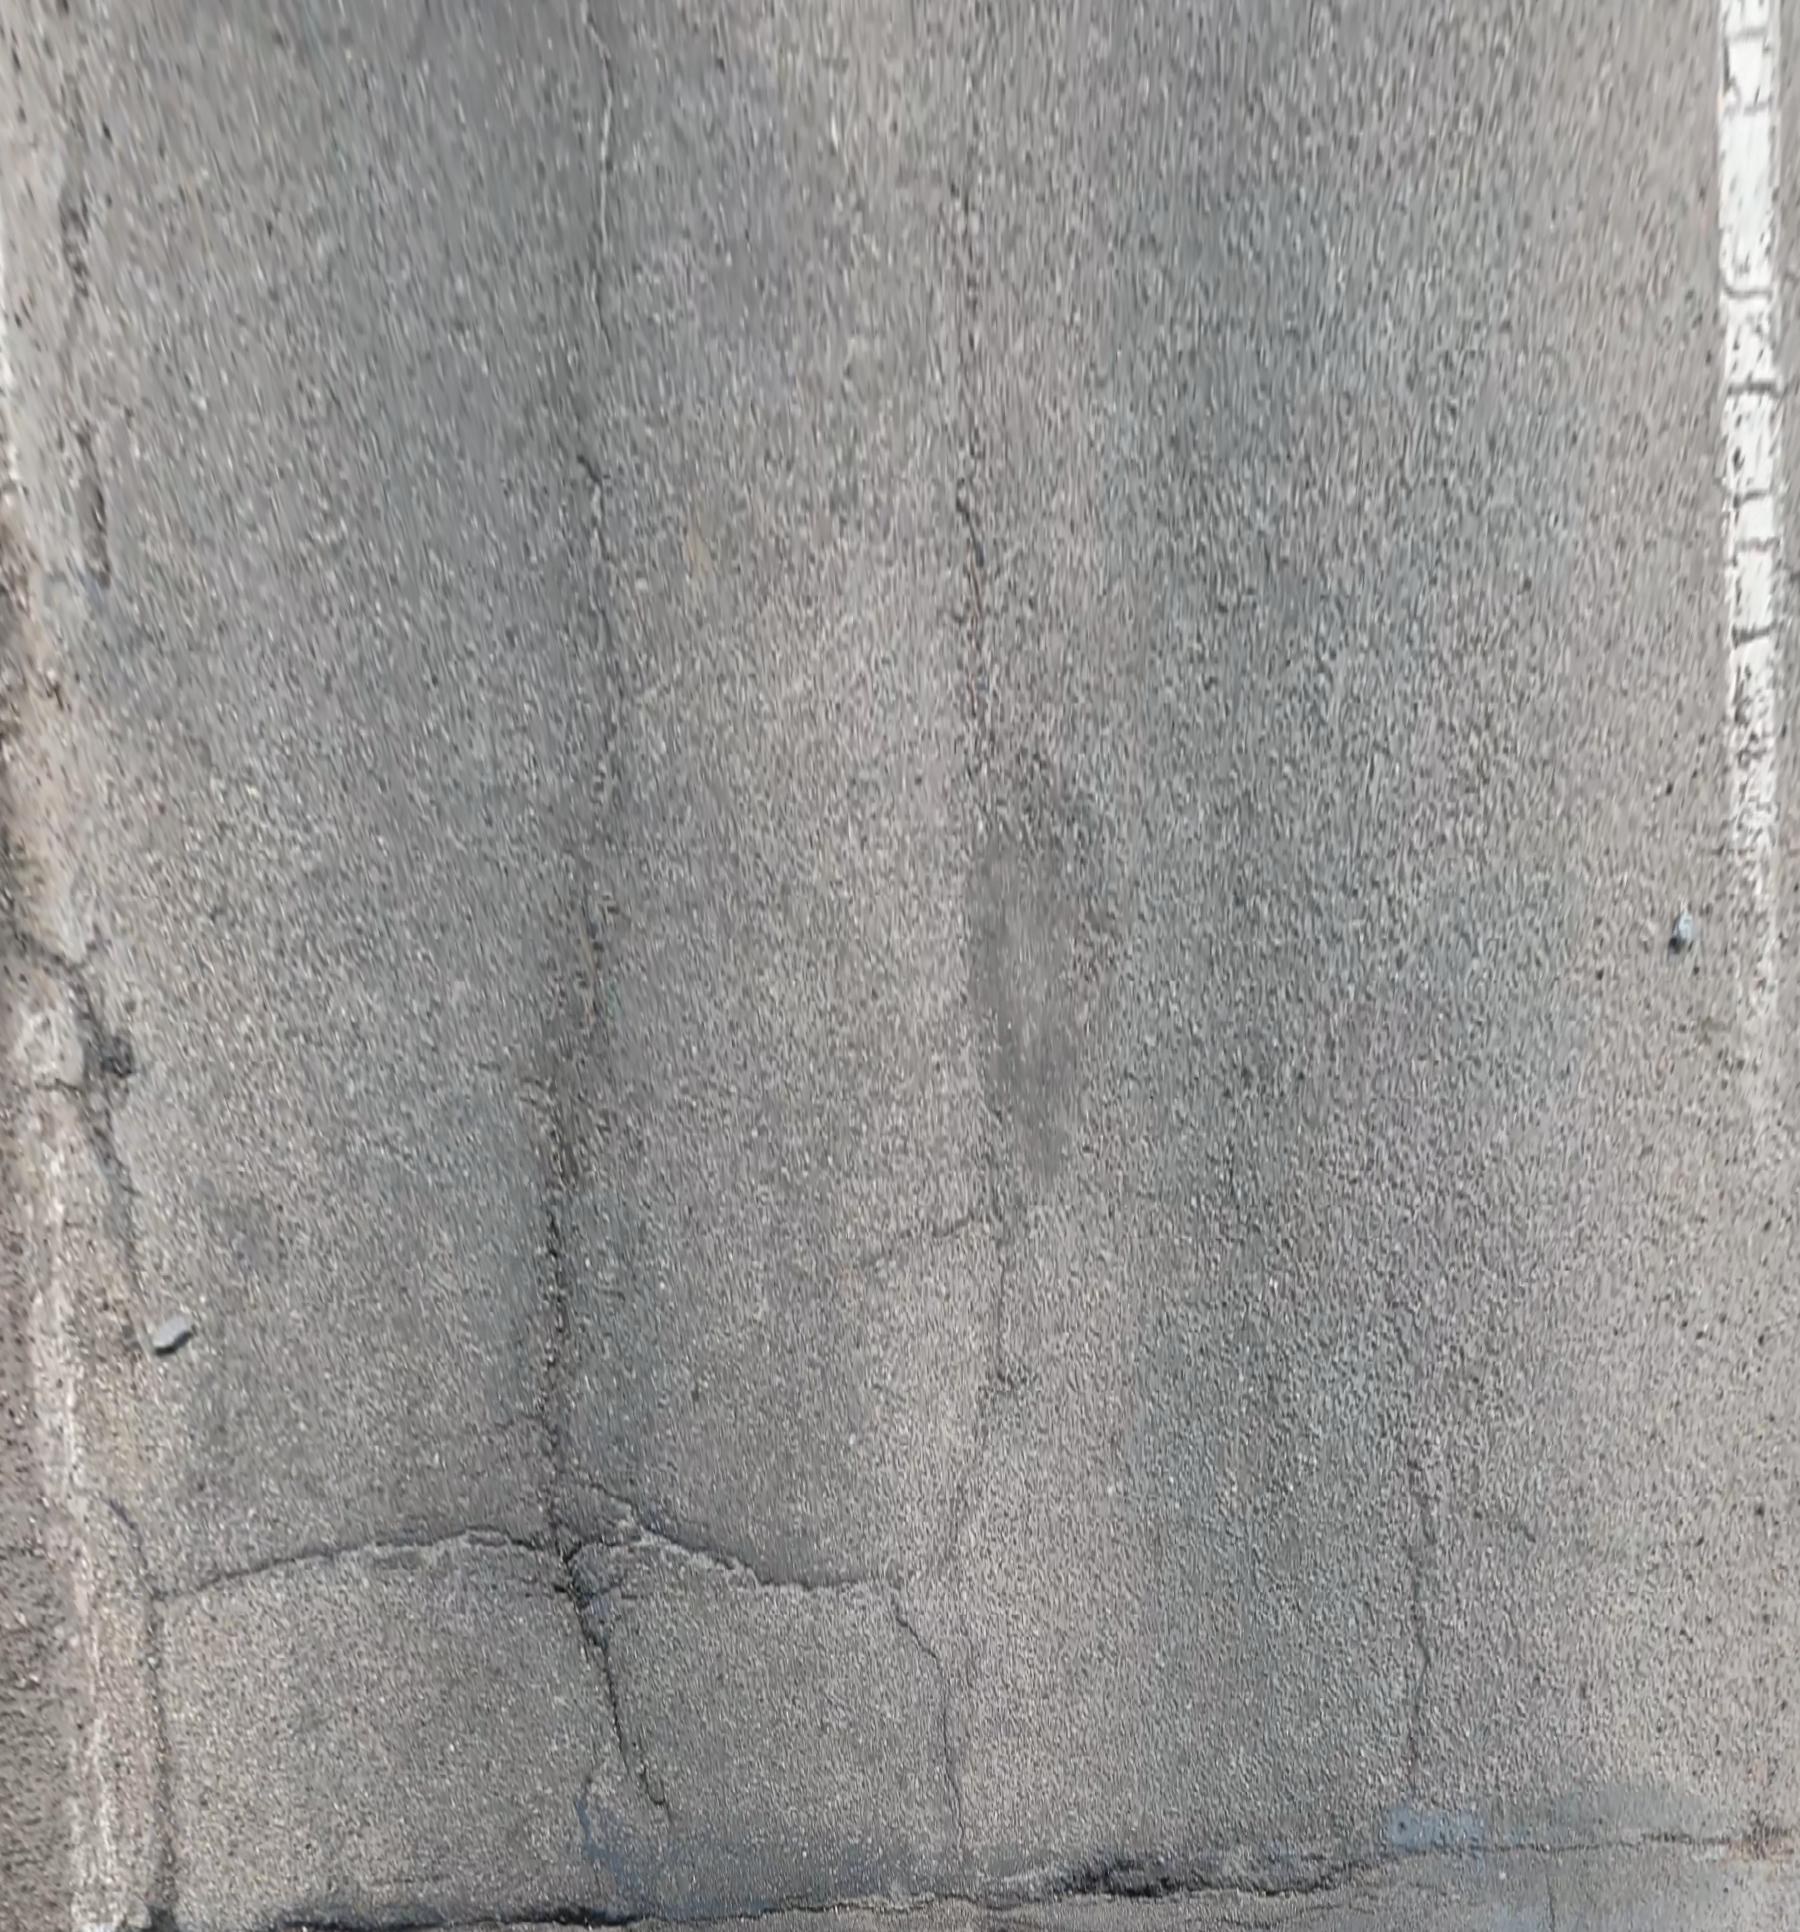pothole_patch_good: (952, 741, 1132, 1201)
